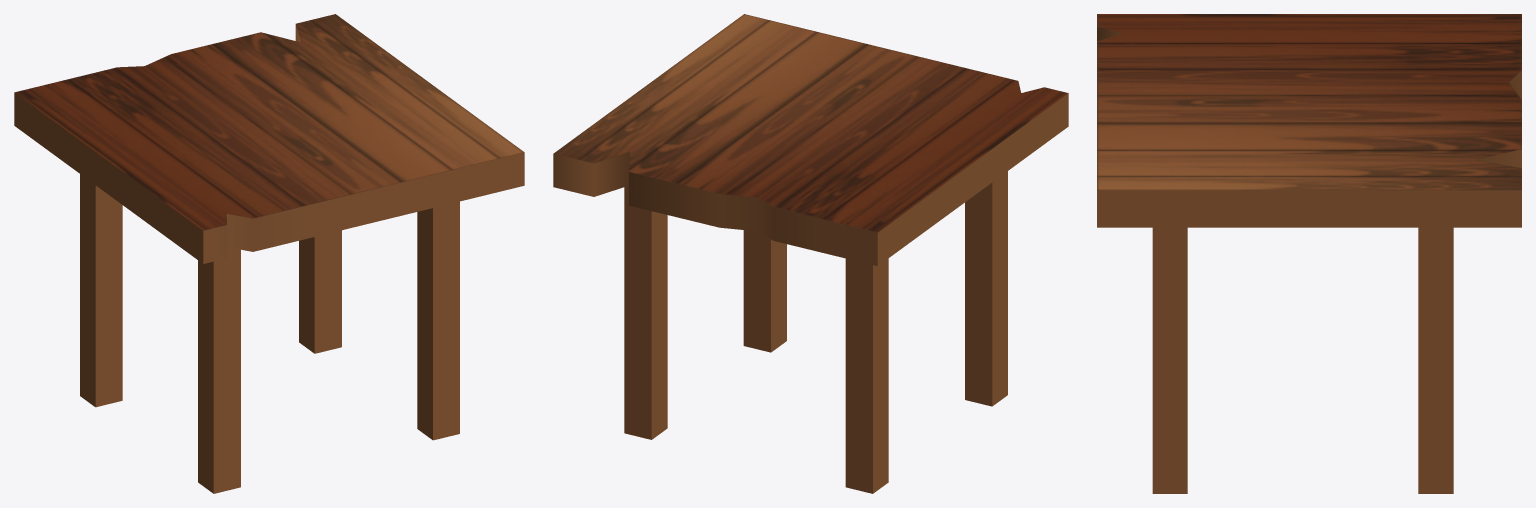
Rendered from obj_wooden_chair.fbx.
3 renders of one model, left to right at view 1: azimuth 30°, elevation 25°; view 2: azimuth 150°, elevation 25°; view 3: azimuth 270°, elevation 25°, orthographic. The views are drawn at different scales.
Parts seen in each view (by area): view 1: obj_wooden_chair; view 2: obj_wooden_chair; view 3: obj_wooden_chair.
Part boxes in pixels (bbox=[...]): obj_wooden_chair: bbox=[14, 14, 524, 493]; obj_wooden_chair: bbox=[553, 14, 1068, 493]; obj_wooden_chair: bbox=[1097, 14, 1521, 493].
Bounding box in the file's own units: 0.6878 × 0.5926 × 0.7008.
1 material, 1 textured.
